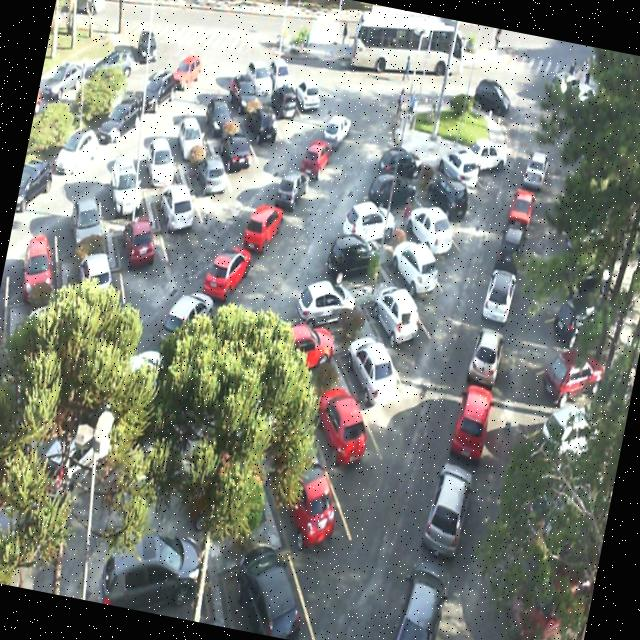occupied: (260, 449, 368, 587), (110, 506, 232, 624), (220, 507, 325, 640), (298, 376, 393, 502), (332, 322, 418, 424), (4, 203, 73, 306), (352, 270, 432, 358), (50, 162, 121, 258), (280, 263, 362, 343), (108, 200, 174, 292), (382, 228, 456, 306), (94, 137, 158, 227), (320, 219, 391, 287), (151, 167, 208, 248), (329, 187, 402, 250), (402, 192, 469, 260), (180, 136, 238, 212), (134, 121, 192, 196), (421, 166, 484, 226), (362, 160, 427, 217), (166, 96, 218, 164), (438, 144, 498, 202), (214, 117, 268, 181), (238, 87, 292, 151), (219, 56, 270, 122), (372, 130, 434, 182), (195, 78, 245, 142), (263, 71, 309, 132)
